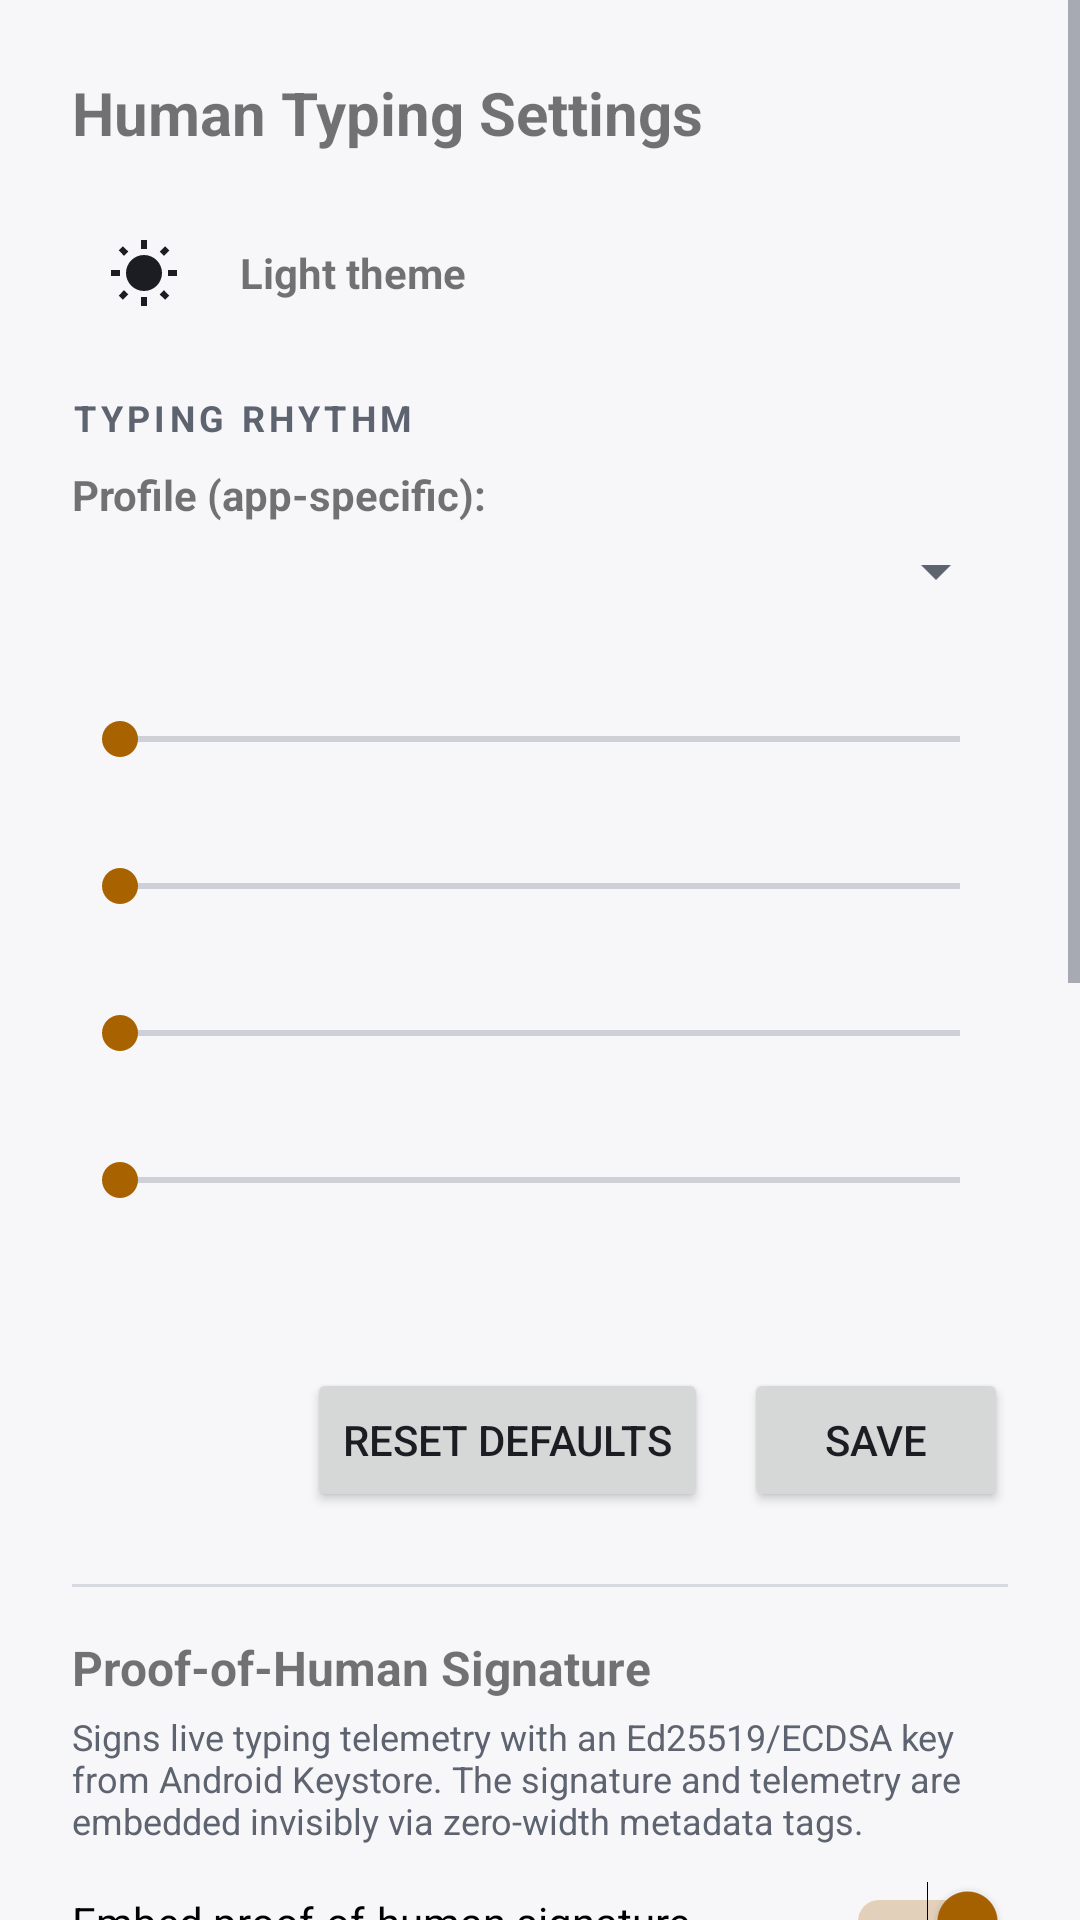

Icon click points for this 1080w x 1920h phone screenshot, format (x=x, y=y):
Toggle keyboard theme: (x=144, y=273)
